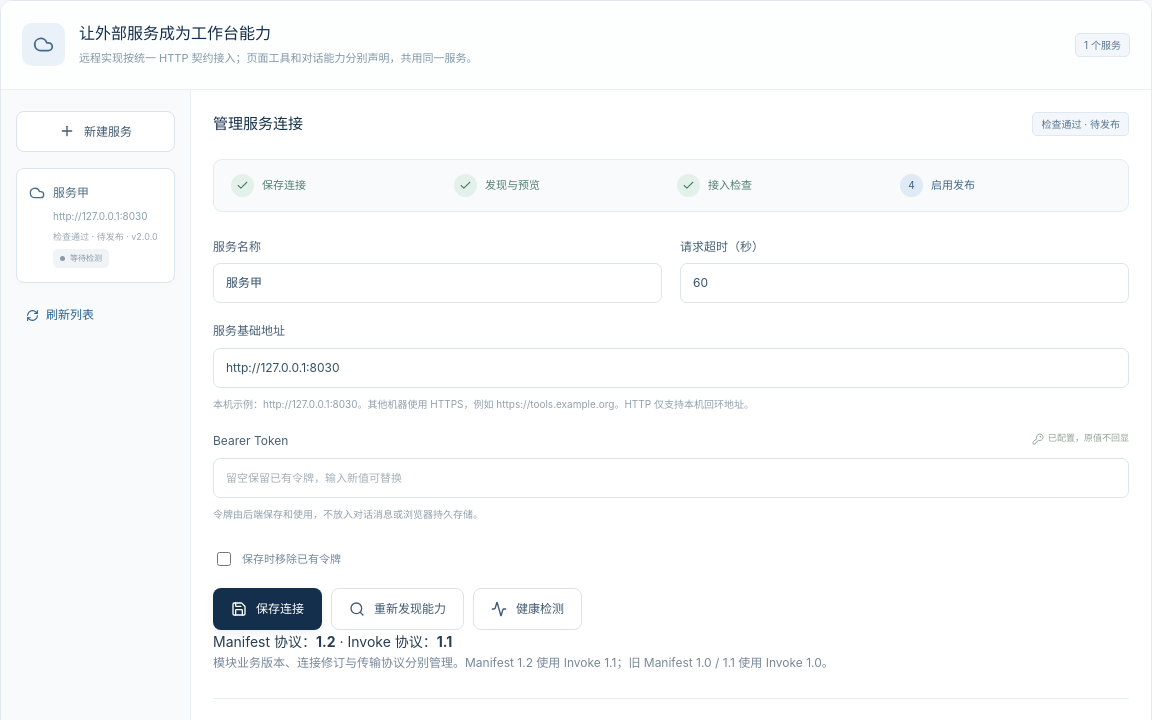
远程连接管理的修订与异步边界 › 新建连接不伪造预期修订，也不回填保存前的令牌
The width and height of the screenshot is (1152, 720).
Expected: the field showing "服务甲" is shown, [213, 263, 662, 303]
Click the button "新建服务" at (96, 131), box [16, 110, 175, 152]
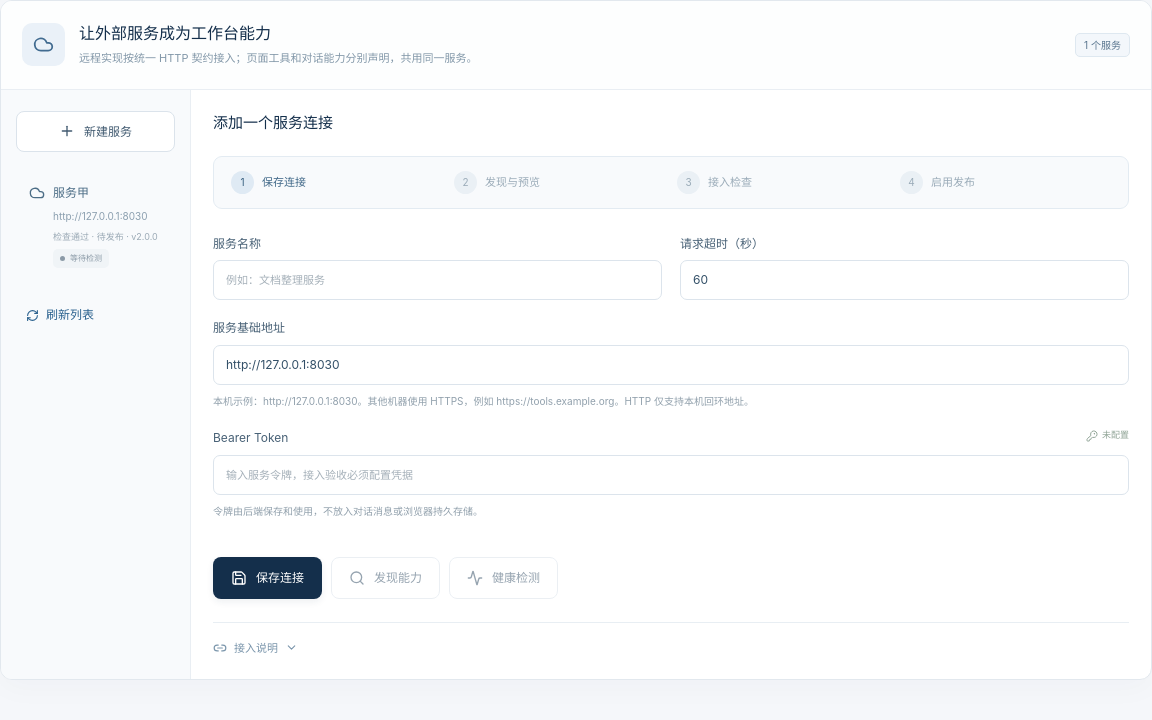
Type "新合成服务" into the field labelled "服务名称" at (438, 280), box [213, 260, 662, 300]
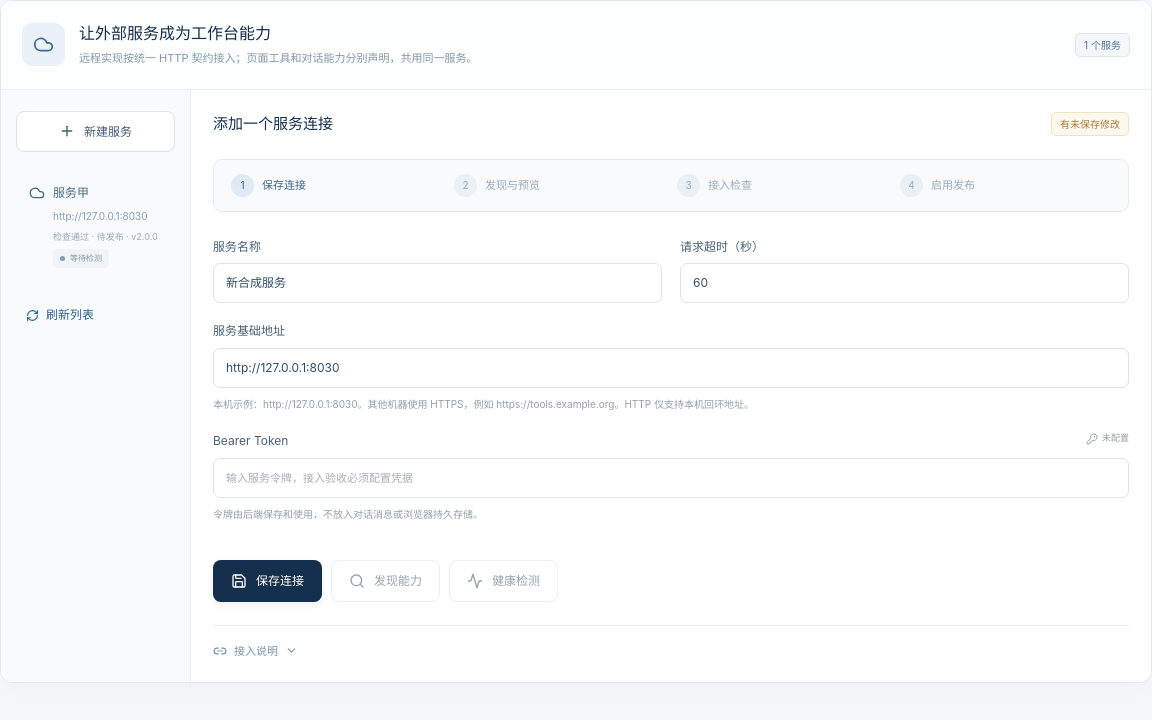
Type "synthetic-only-token" into the password field labelled "Bearer Token 未配置 令牌由后端保存和使用，不放入对话消息或浏览器持久存储。" at (671, 478), box [213, 458, 1129, 498]
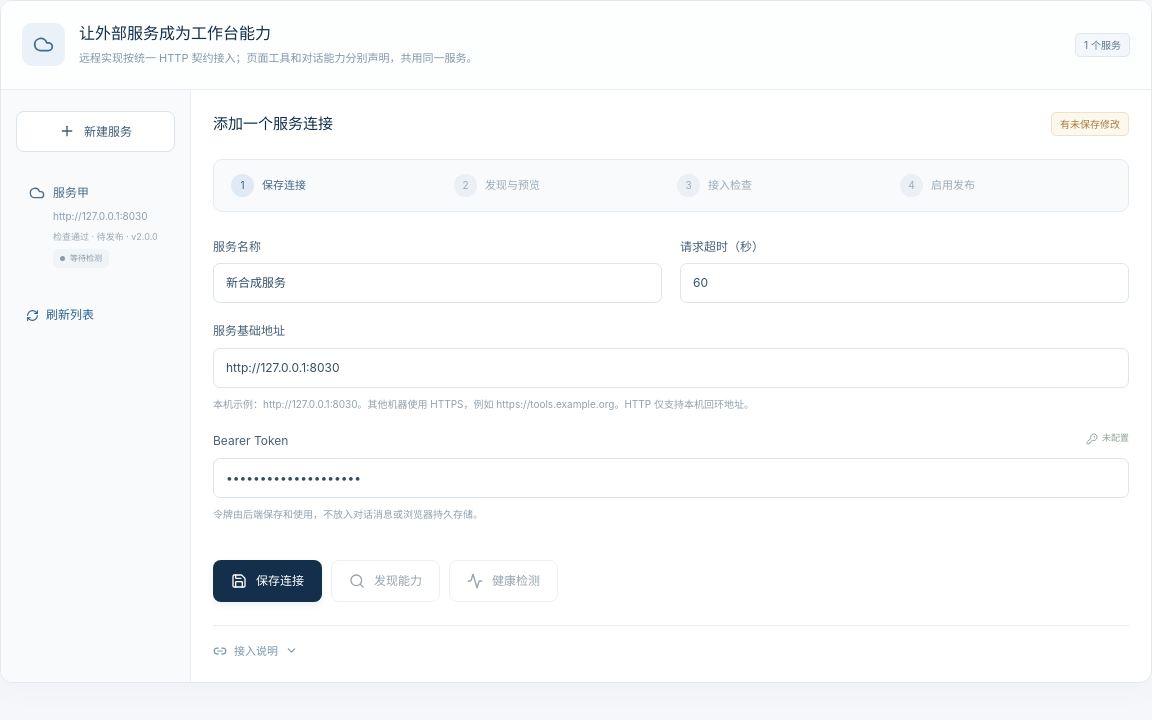
Click the button "保存连接" at (268, 581), box [213, 560, 322, 602]
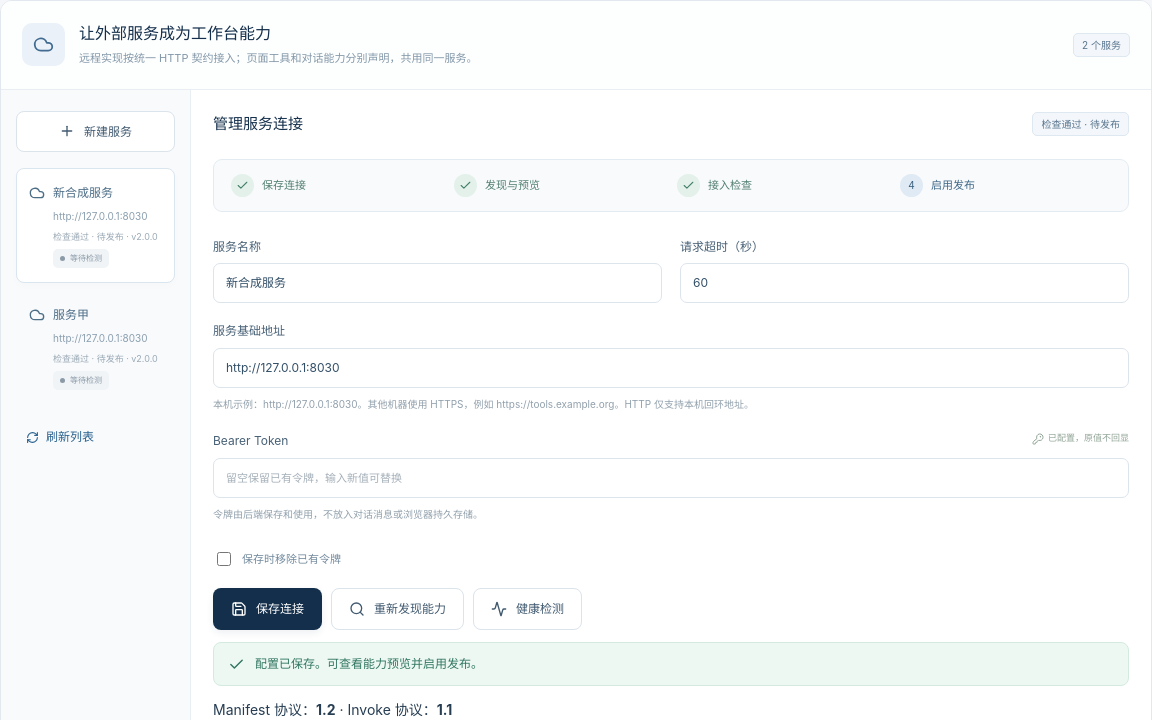
Now the text "配置已保存。可查看能力预览并启用发布。" is shown, box [255, 656, 483, 671]
Now the password field labelled "Bearer Token 已配置，原值不回显 令牌由后端保存和使用，不放入对话消息或浏览器持久存储。" is empty, box [213, 458, 1129, 498]
